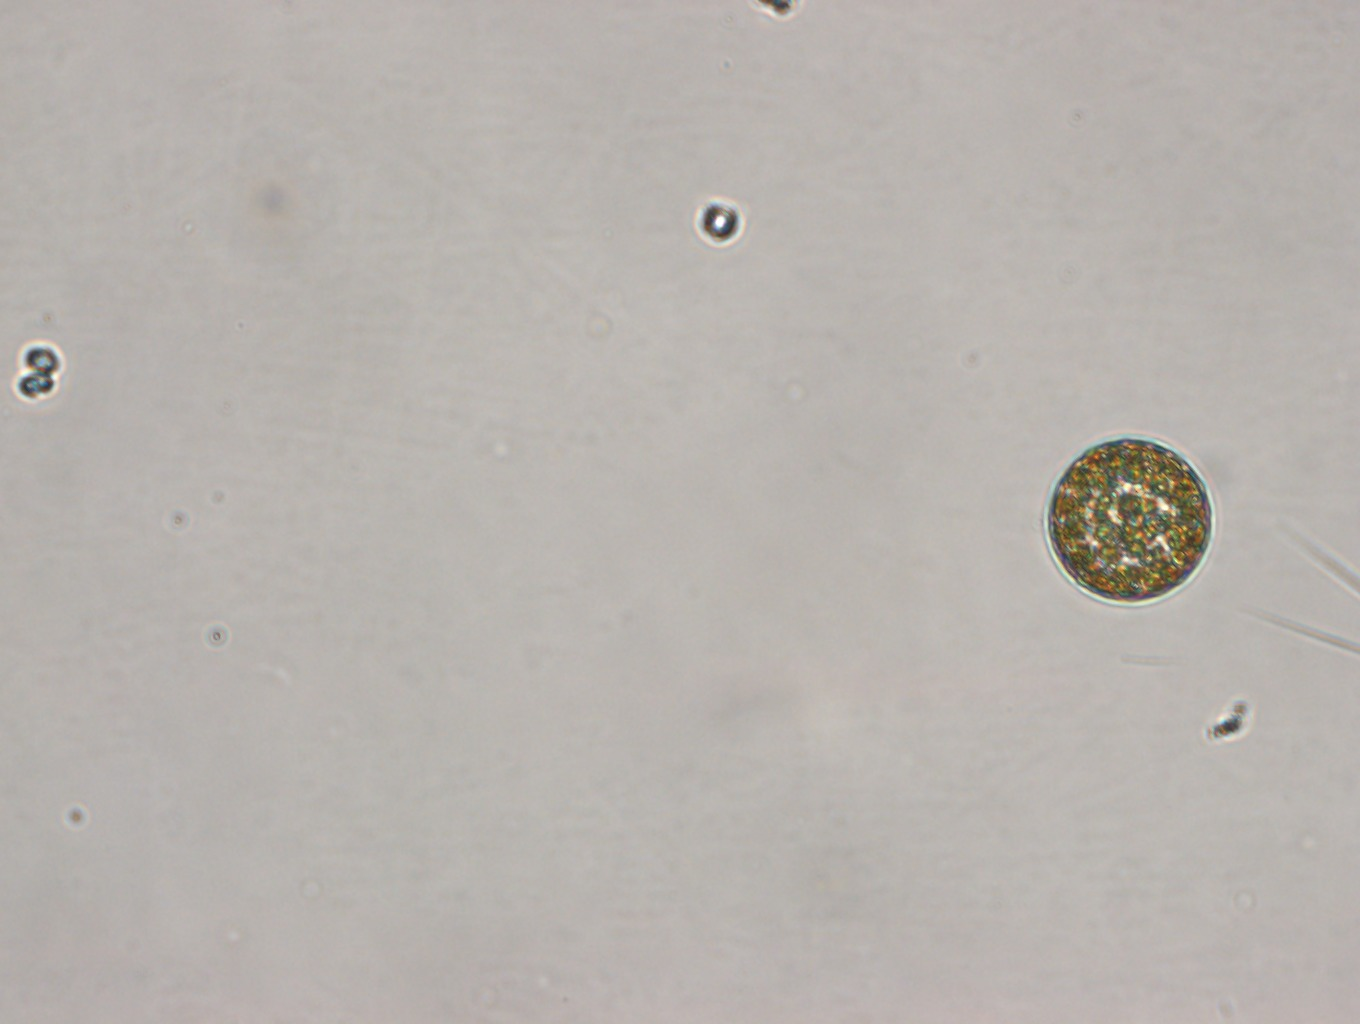coscinodiscus: (1045, 433, 1211, 605)
